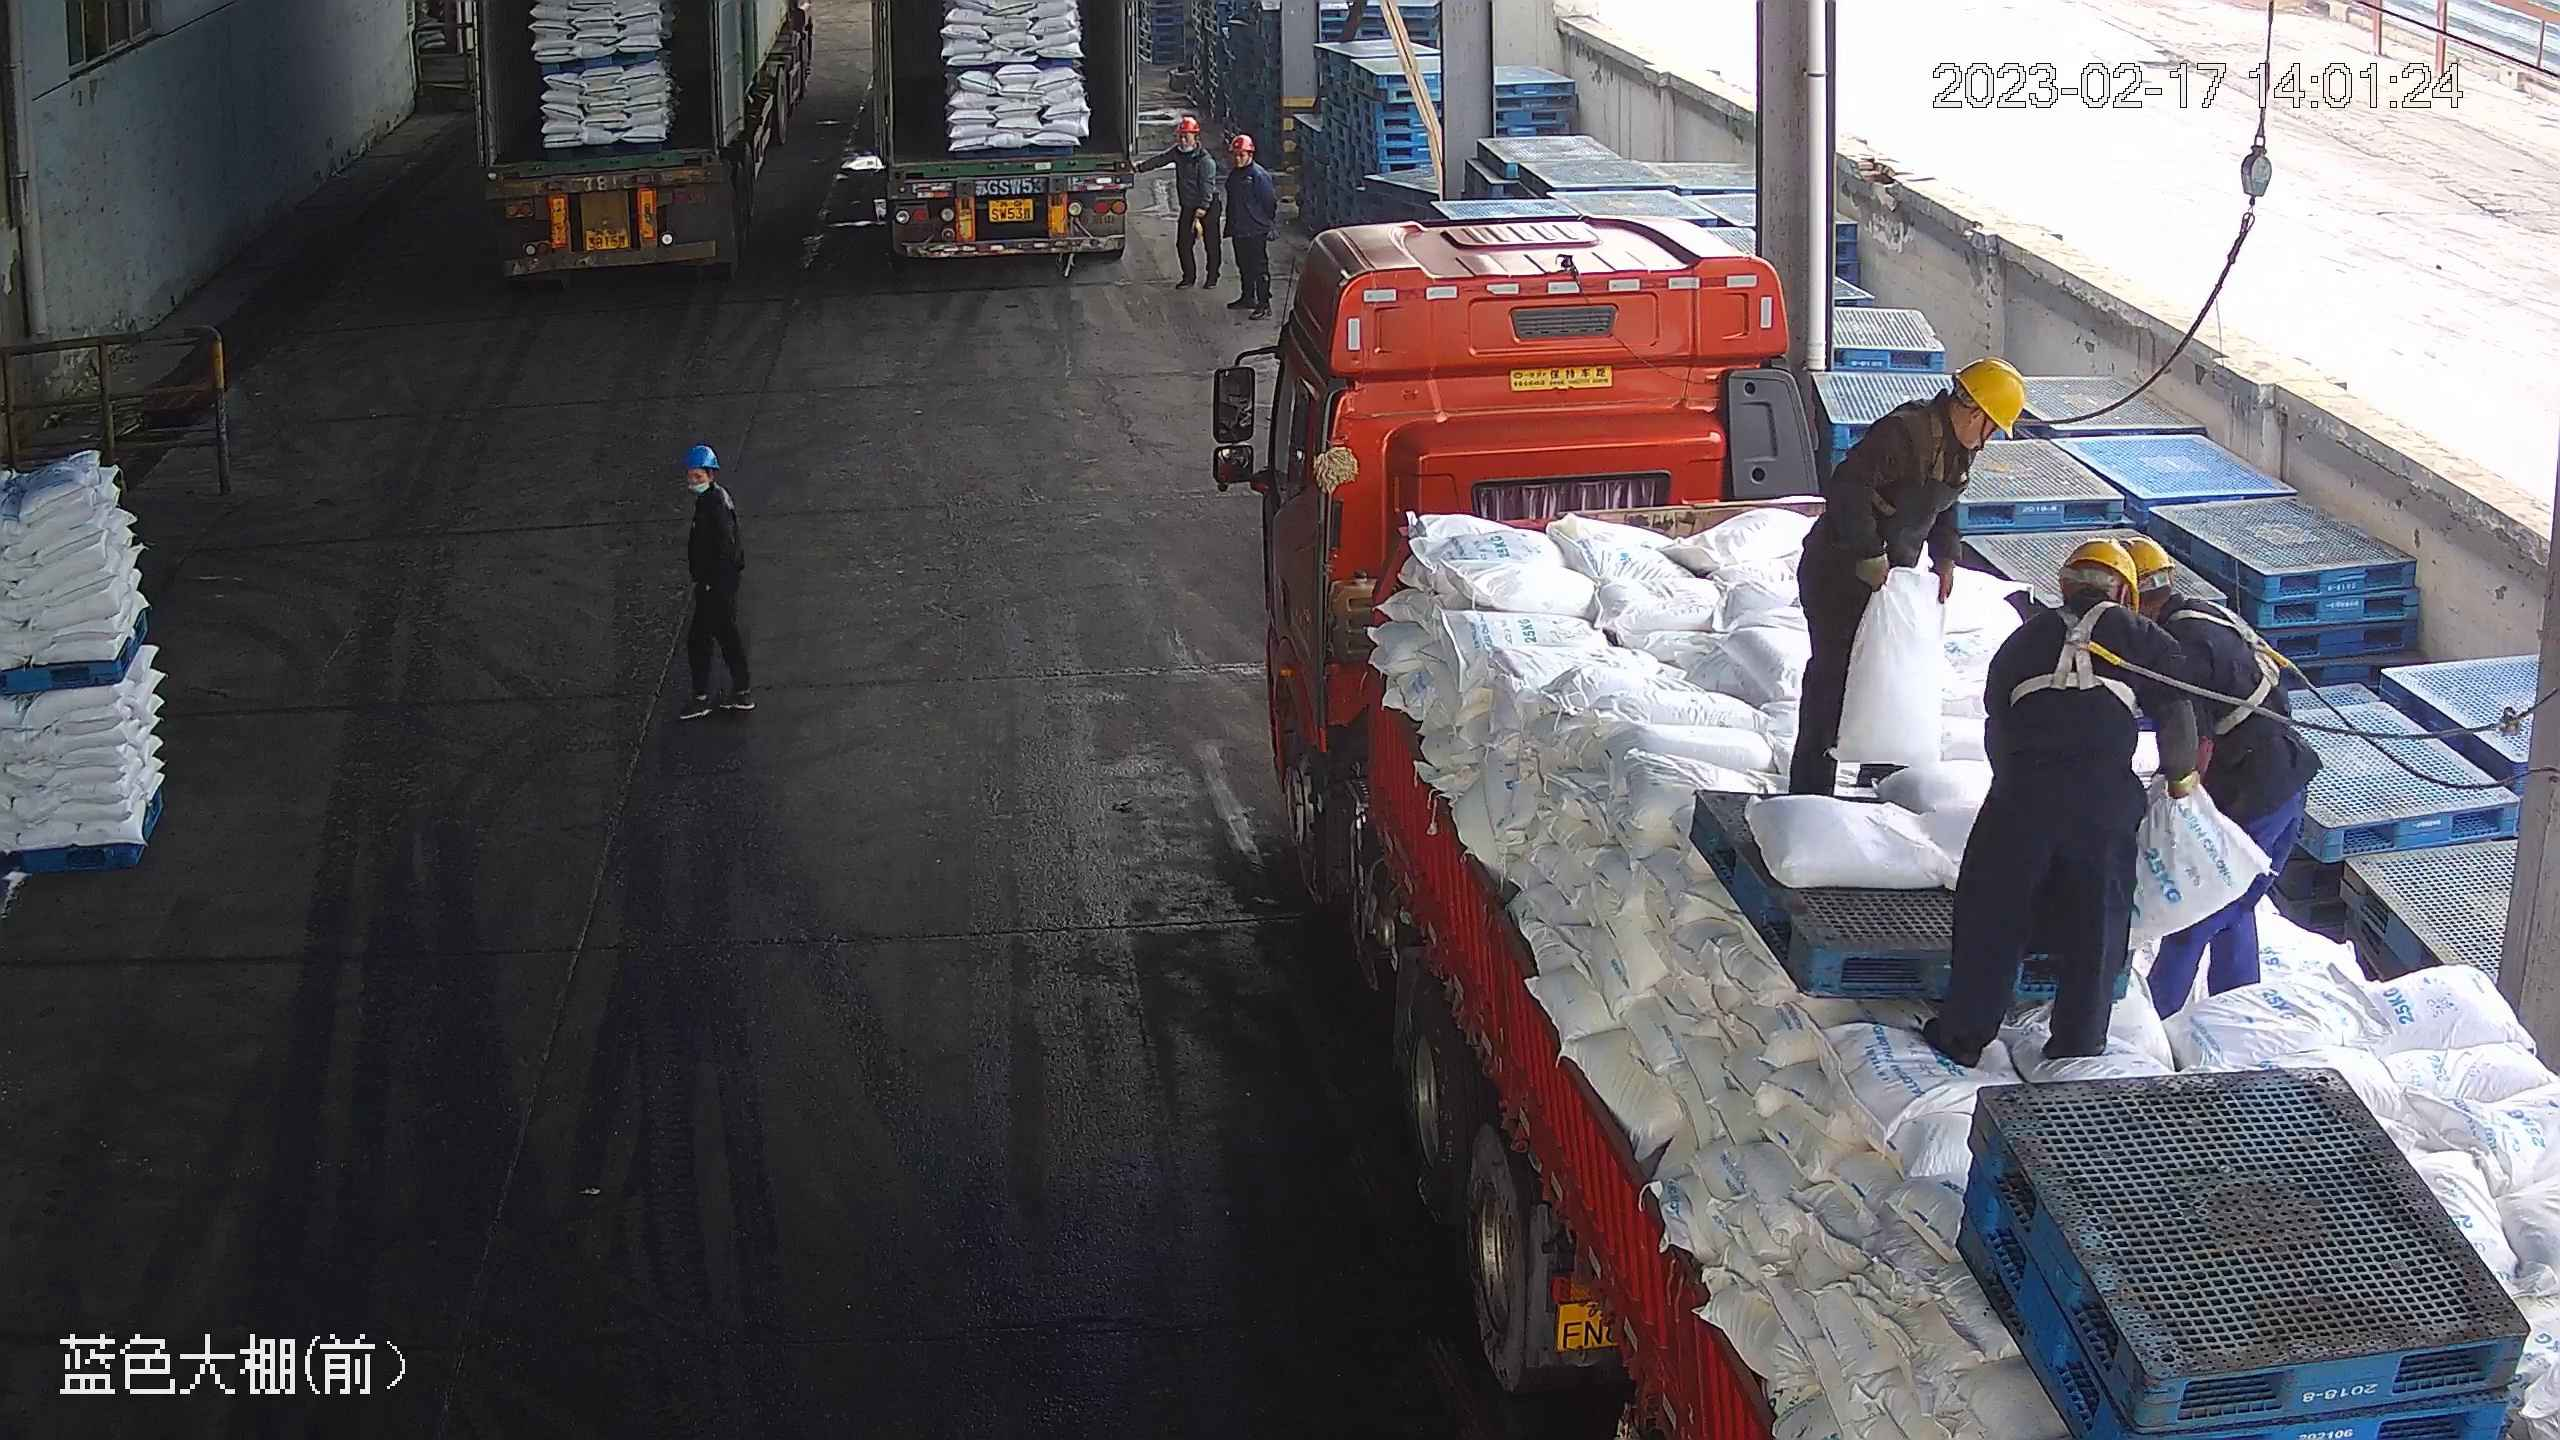belt: (2009, 593, 2140, 708), (2173, 591, 2288, 722), (1885, 405, 1967, 499)
head: (1995, 535, 2165, 675), (1867, 356, 2025, 502), (678, 440, 738, 531), (1221, 134, 1272, 197), (1165, 114, 1211, 176)
helmet: (2064, 535, 2148, 604), (1954, 359, 2024, 437), (680, 441, 719, 473), (1225, 134, 1252, 156), (1175, 112, 1202, 134)
people: (1921, 531, 2174, 1063), (2094, 530, 2327, 1022), (1785, 355, 2028, 798), (670, 438, 761, 721), (1159, 112, 1217, 292), (1221, 135, 1275, 318)
truck: (1209, 206, 2559, 1440), (476, 1, 823, 281), (865, 1, 1142, 262)
